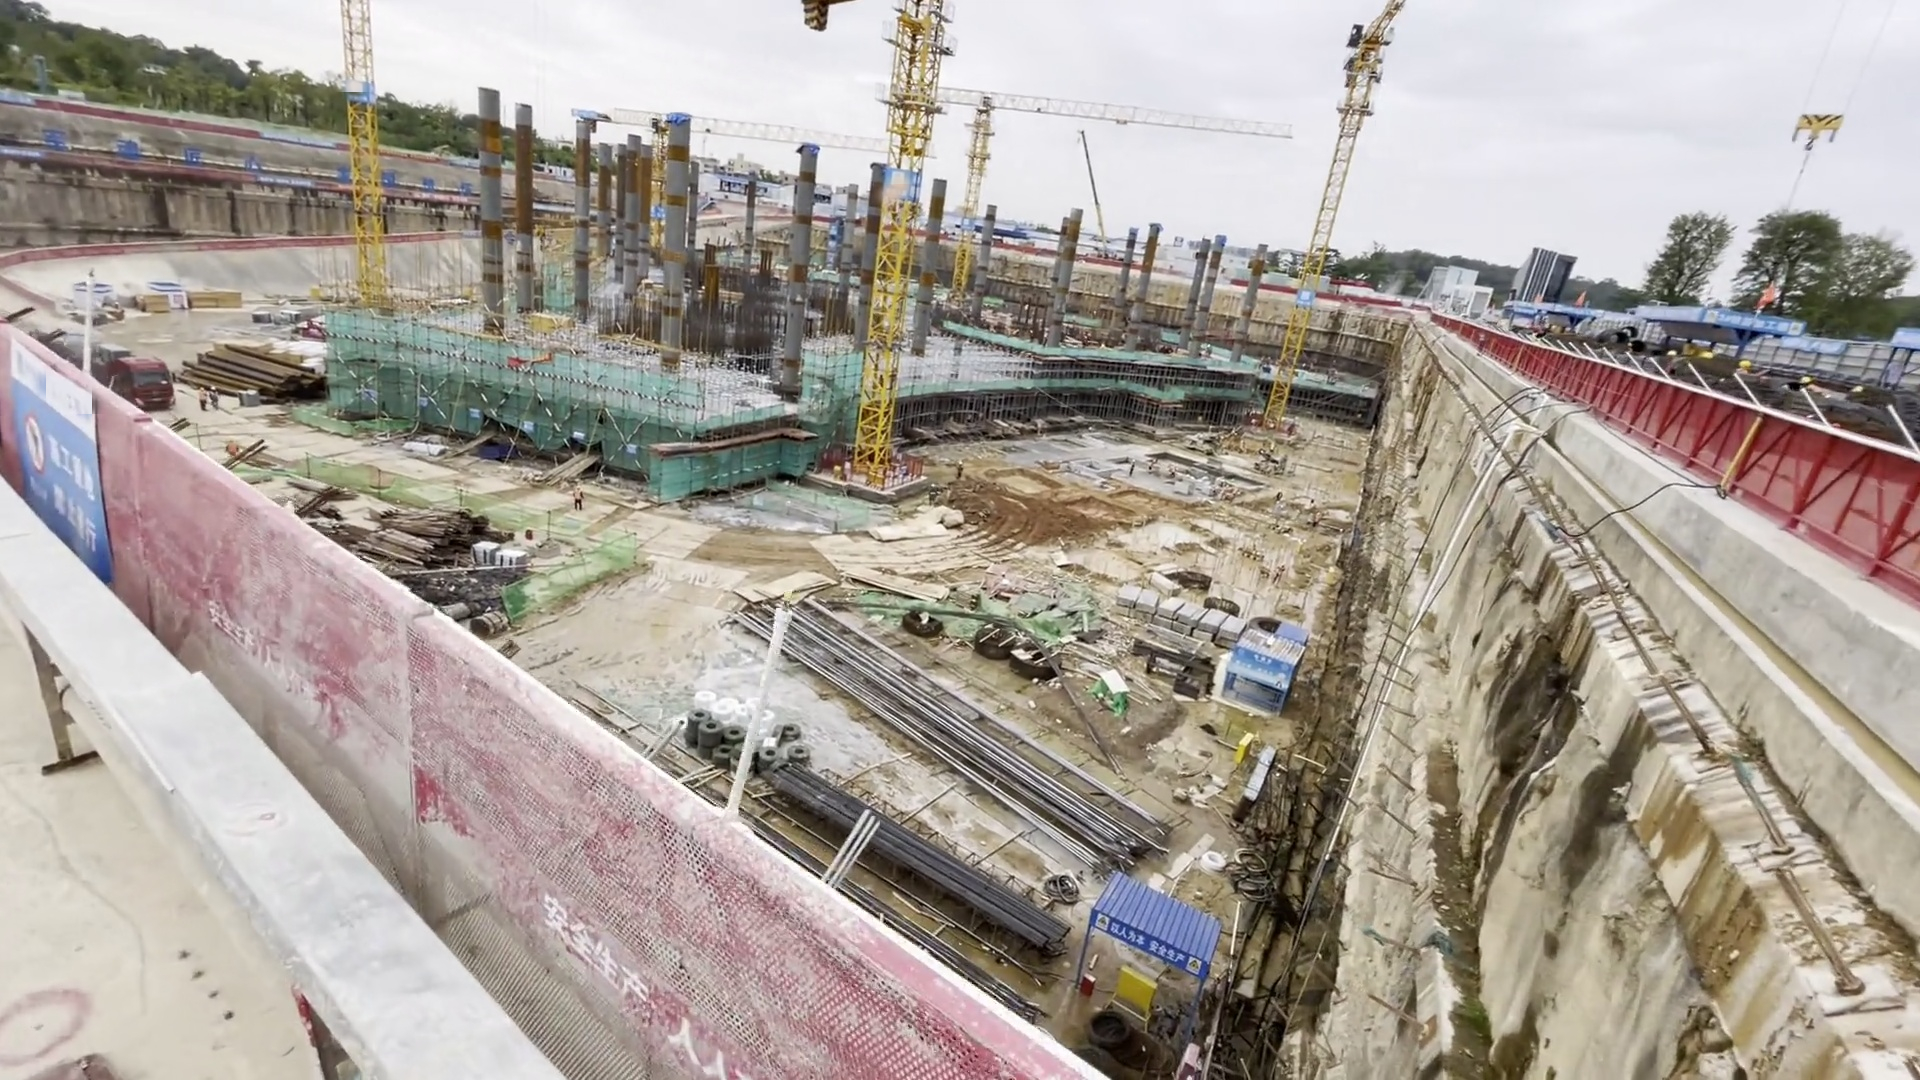brick: (1119, 591, 1246, 657), (470, 538, 542, 581)
ebox: (866, 472, 888, 492)
fence: (162, 546, 725, 947), (1617, 380, 1920, 572)
helmet: (575, 485, 583, 489)
hook: (1794, 112, 1845, 152)
hopper: (481, 440, 518, 461)
person: (220, 437, 244, 465), (954, 456, 968, 482), (197, 383, 210, 412), (209, 384, 221, 411), (572, 482, 586, 508), (1128, 456, 1137, 478)
rebar: (794, 767, 1066, 945)
slogan: (533, 907, 753, 1079), (21, 415, 139, 580), (45, 133, 265, 171), (1105, 927, 1195, 976), (1714, 308, 1790, 331)
vest: (574, 490, 582, 500)
wood: (383, 504, 474, 562)
